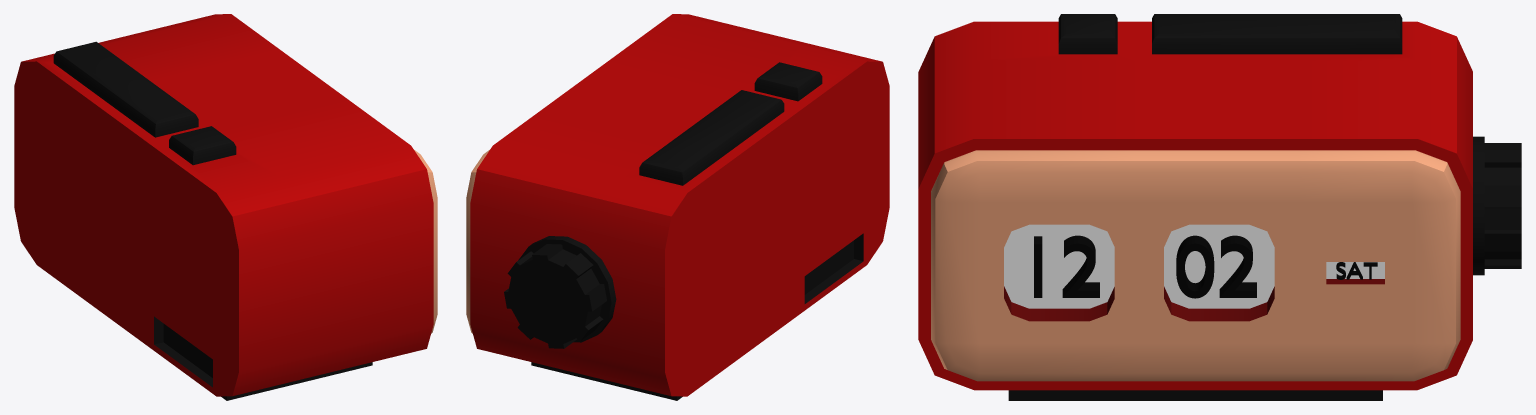
File: AlarmClock_01.glb
3 renders of one model, left to right at view 1: azimuth 30°, elevation 25°; view 2: azimuth 150°, elevation 25°; view 3: azimuth 270°, elevation 25°, orthographic. The views are drawn at different scales.
Visible parts, largest first — view 1: Mesh_AlarmClock_01; view 2: Mesh_AlarmClock_01; view 3: Mesh_AlarmClock_01.
Boxes of the visible parts, x1=… form: Mesh_AlarmClock_01: x1=14, y1=14, x2=437, y2=400; Mesh_AlarmClock_01: x1=466, y1=14, x2=889, y2=400; Mesh_AlarmClock_01: x1=918, y1=14, x2=1521, y2=400.
Size of the model in its own units: 0.1073 by 0.1171 by 0.2175.
Materials: 1 (1 with a texture image).
